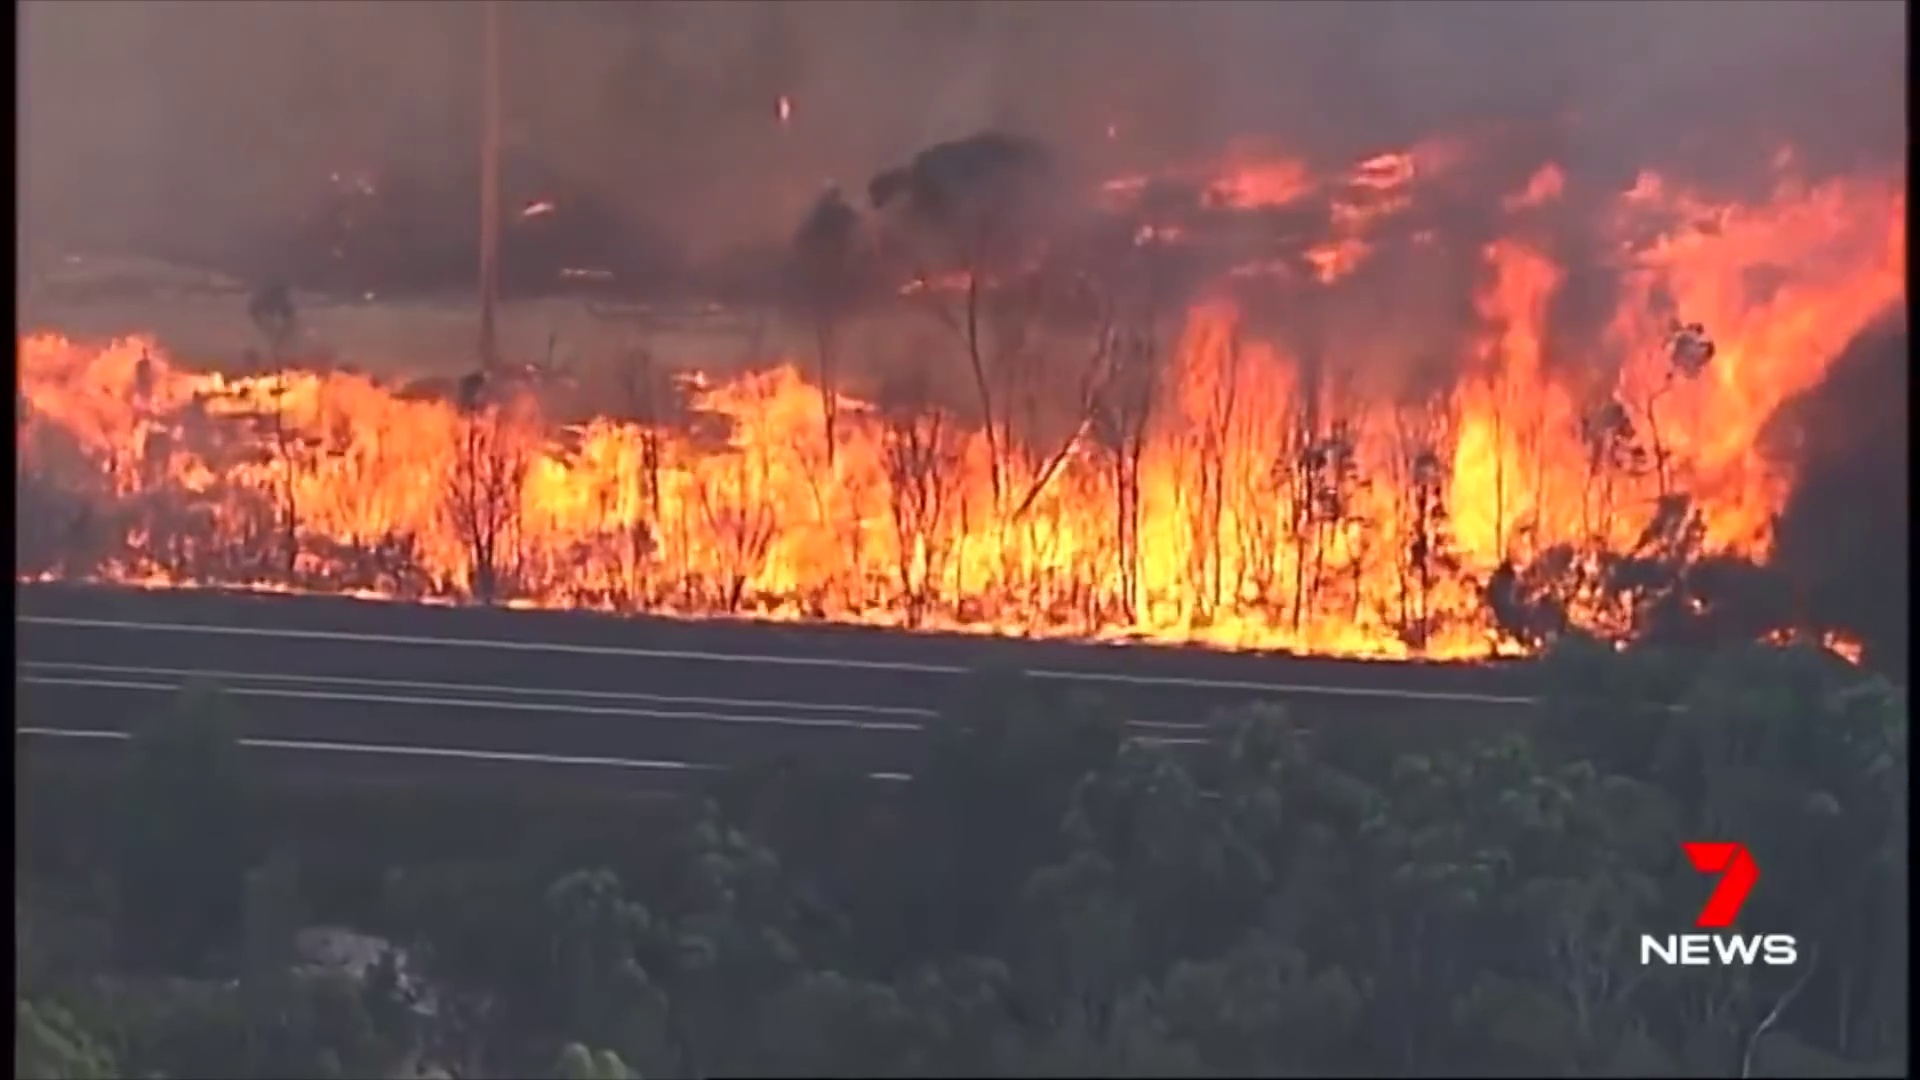fire: (9, 344, 1540, 655), (1633, 175, 1905, 309)
